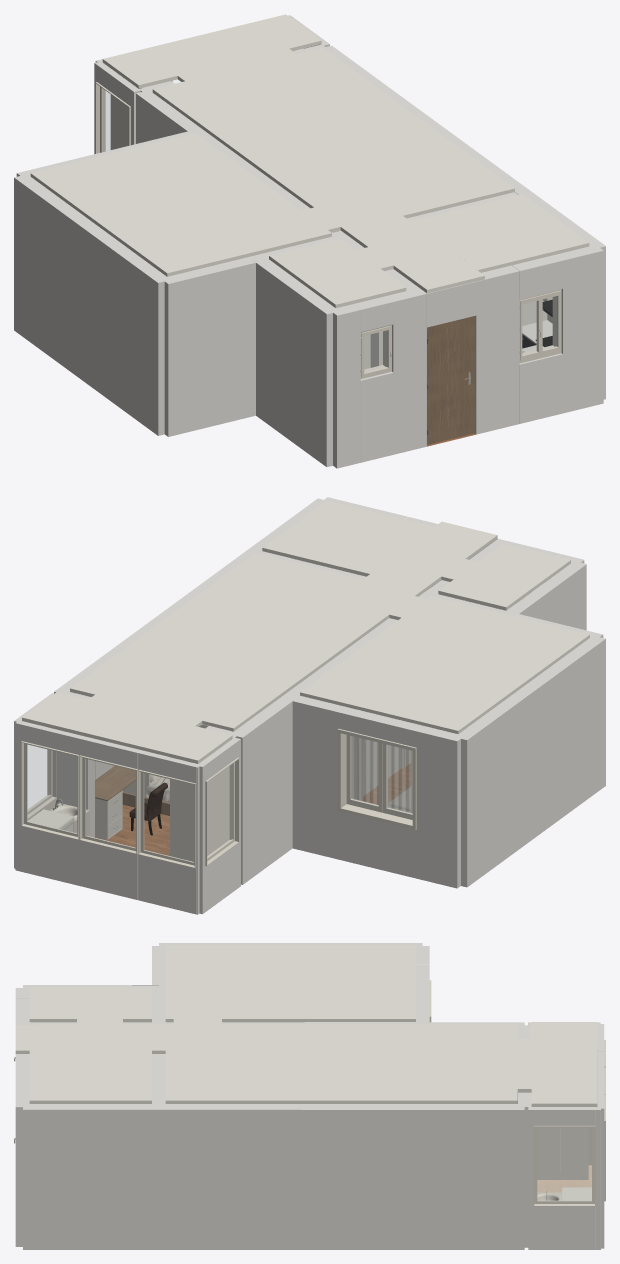
The model's file is apartment-doors.glb.
The picture shows the model from 3 angles, top to bottom: view 1: azimuth 30°, elevation 25°; view 2: azimuth 150°, elevation 25°; view 3: azimuth 270°, elevation 25°; orthographic projection. The views are drawn at different scales.
Visible parts, largest first — view 1: Static_bath, Static_master, Ceiling_master, Static_kitchen, Ceiling_second, Ceiling_dining, Ceiling_kitchen, Ceiling_balcony, Static_entry, Ceiling_bath, Ceiling_entry, Static_balcony (+2 smaller); view 2: Static_master, Static_balcony, Ceiling_master, Ceiling_second, Static_second, Ceiling_dining, Ceiling_balcony, Ceiling_kitchen, Ceiling_bath, Static_bath, Ceiling_entry, Static_dining (+1 smaller); view 3: Static_dining, Ceiling_master, Ceiling_second, Static_balcony, Ceiling_dining, Ceiling_kitchen, Ceiling_balcony, Ceiling_bath, Ceiling_entry, Static_kitchen, Static_bath, Static_master (+1 smaller).
Part boxes in pixels (x1,y1,x2,y2): Static_bath: (163,235,426,468); Static_master: (14,130,331,435); Ceiling_master: (30,133,340,276); Static_kitchen: (407,192,603,434); Ceiling_second: (152,48,437,176); Ceiling_dining: (268,132,514,233); Ceiling_kitchen: (411,194,589,272); Ceiling_balcony: (102,14,321,88); Static_entry: (346,234,476,446); Ceiling_bath: (269,238,406,308); Ceiling_entry: (345,216,484,293); Static_balcony: (94,15,329,153); Static_master: (287,636,605,888); Static_balcony: (14,692,240,914); Ceiling_master: (300,596,589,733); Ceiling_second: (70,607,345,731); Static_second: (70,618,401,884); Ceiling_dining: (182,553,418,649); Ceiling_balcony: (22,692,232,763); Ceiling_kitchen: (262,500,433,576); Ceiling_bath: (438,543,570,610); Static_bath: (423,538,603,637); Ceiling_entry: (363,521,497,595); Static_dining: (54,498,429,779); Static_dining: (23,1022,524,1249); Ceiling_master: (165,945,415,1024); Ceiling_second: (306,1024,517,1103); Static_balcony: (517,1022,605,1249); Ceiling_dining: (165,1024,305,1103); Ceiling_kitchen: (29,1050,151,1103); Ceiling_balcony: (517,1022,597,1106); Ceiling_bath: (29,987,151,1024); Ceiling_entry: (15,1024,165,1053); Static_kitchen: (14,1054,165,1246); Static_bath: (14,946,165,1061); Static_master: (159,943,431,1024).
Bounding box in the file's own units: 6.93 × 2.78 × 10.34.
34 materials, 12 textured.
